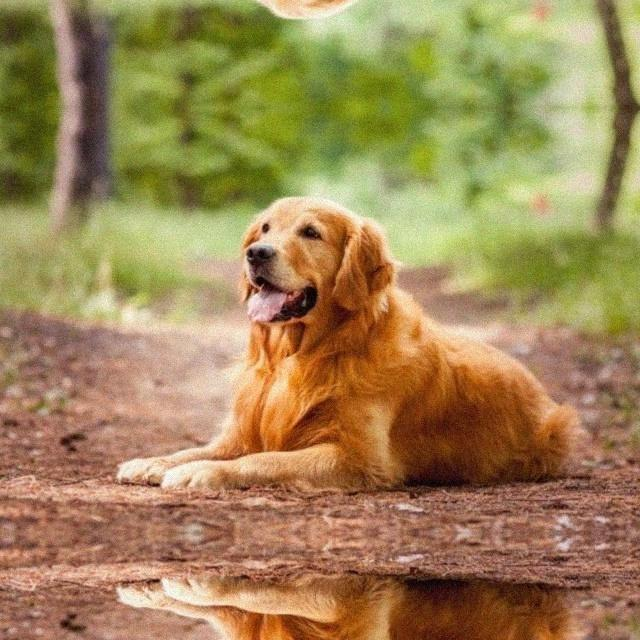dog: (100, 196, 588, 502), (101, 562, 588, 640), (101, 0, 588, 17)
